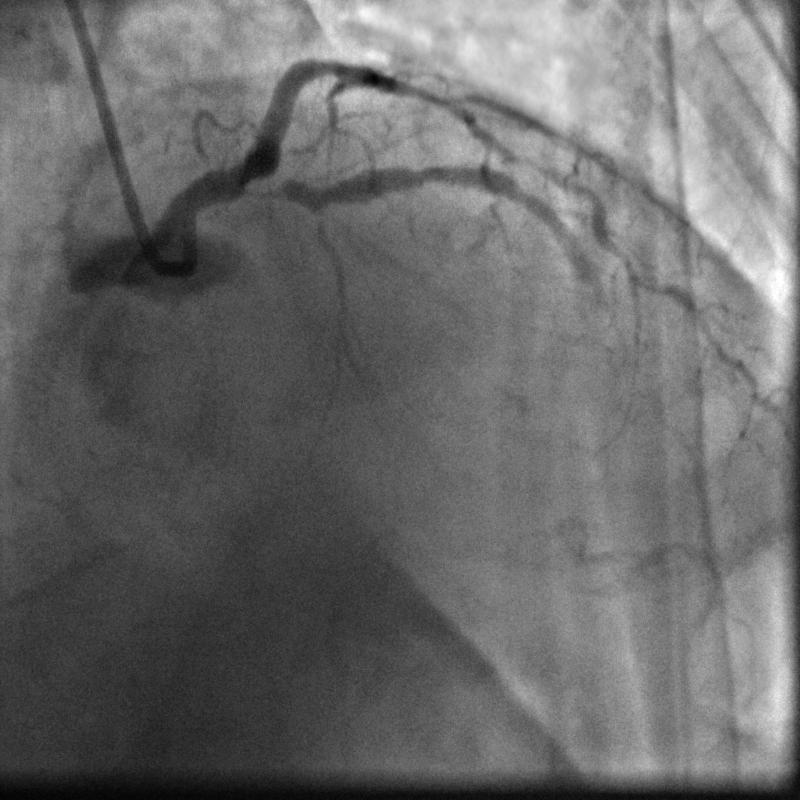Stenosis: (250, 169, 291, 206)
